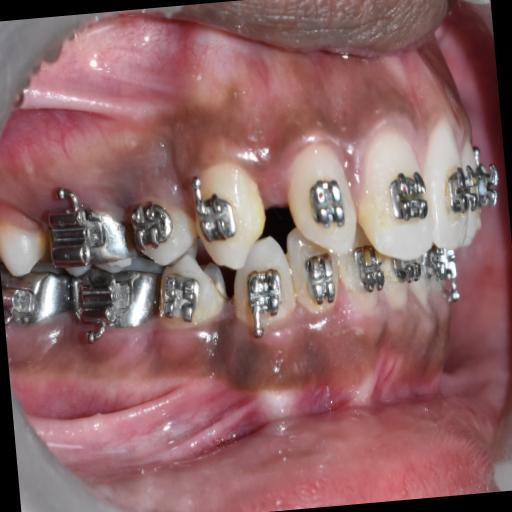correct_brace: (126, 186, 196, 272), (188, 169, 240, 251), (379, 162, 435, 230), (302, 172, 352, 237)
incorrect_brace: (277, 130, 365, 264), (126, 196, 178, 256)
